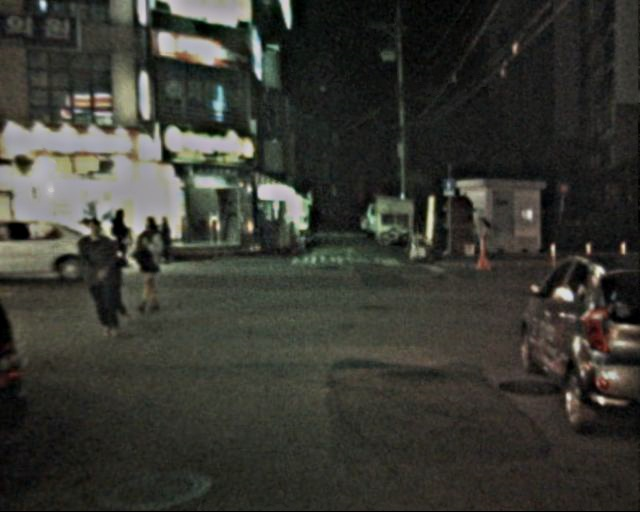person: (78, 212, 127, 333), (129, 206, 173, 313), (467, 208, 490, 265)
